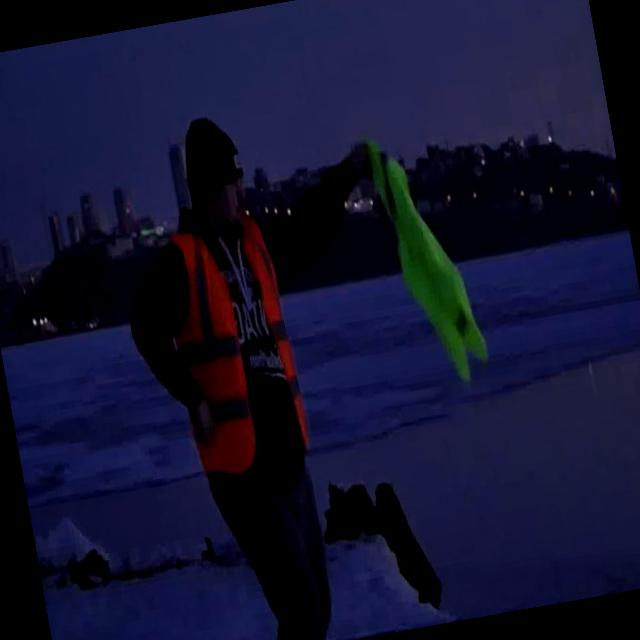vest: (153, 208, 315, 482), (360, 120, 494, 395)
